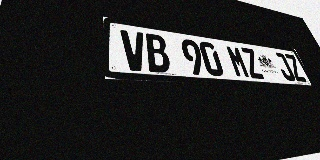0: (198, 41, 225, 77)
9: (180, 38, 207, 75)
B: (144, 33, 172, 73)
J: (272, 52, 297, 81)
M: (225, 45, 251, 78)
V: (120, 29, 148, 72)
Z: (239, 47, 265, 79), (283, 53, 307, 82)
